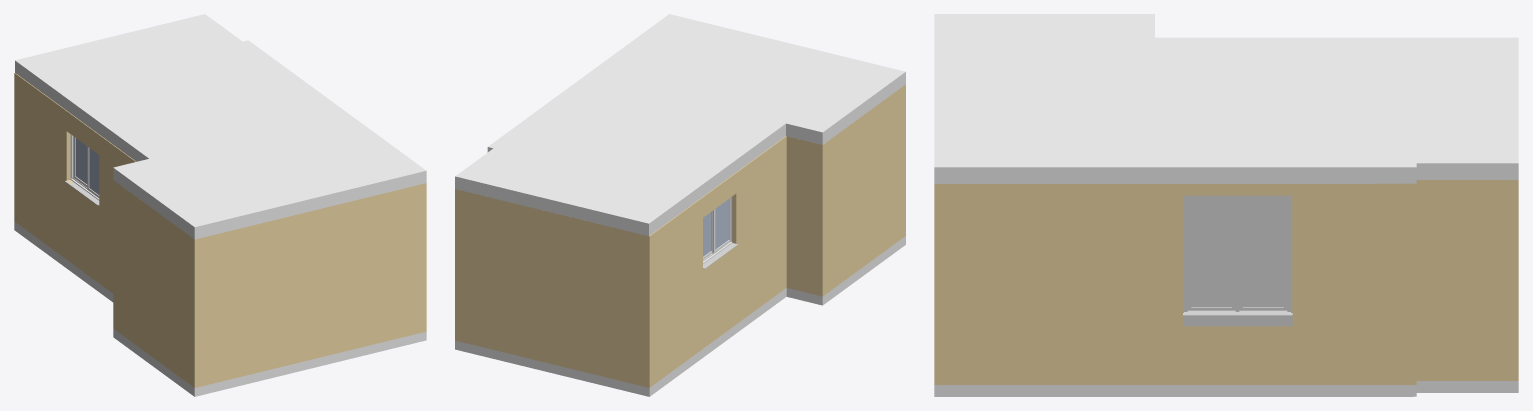
Rendered from FloorPlan18_physics.fbx.
3 renders of one model, left to right at view 1: azimuth 30°, elevation 25°; view 2: azimuth 150°, elevation 25°; view 3: azimuth 270°, elevation 25°, orthographic. The views are drawn at different scales.
Visible parts, largest first — view 1: Baseboard.026, Ceiling.005, Floor.005, WindowPane1, WindowPane2; view 2: Baseboard.026, Ceiling.005, Floor.005, WindowPane2; view 3: Baseboard.026, Ceiling.005, WindowPane3, Floor.005, Window.002.
Boxes of the visible parts, bbox=[...] form: Baseboard.026: bbox=[14, 73, 426, 387]; Ceiling.005: bbox=[15, 14, 426, 239]; Floor.005: bbox=[14, 221, 426, 396]; WindowPane1: bbox=[75, 138, 87, 184]; WindowPane2: bbox=[89, 148, 99, 194]; Baseboard.026: bbox=[455, 84, 905, 387]; Ceiling.005: bbox=[455, 14, 905, 236]; Floor.005: bbox=[455, 236, 905, 396]; WindowPane2: bbox=[715, 199, 728, 249]; Baseboard.026: bbox=[934, 180, 1518, 384]; Ceiling.005: bbox=[934, 14, 1518, 183]; WindowPane3: bbox=[1192, 201, 1282, 305]; Floor.005: bbox=[934, 381, 1518, 396]; Window.002: bbox=[1183, 195, 1292, 326].
Size of the model in its own units: 498 by 343 by 790.
